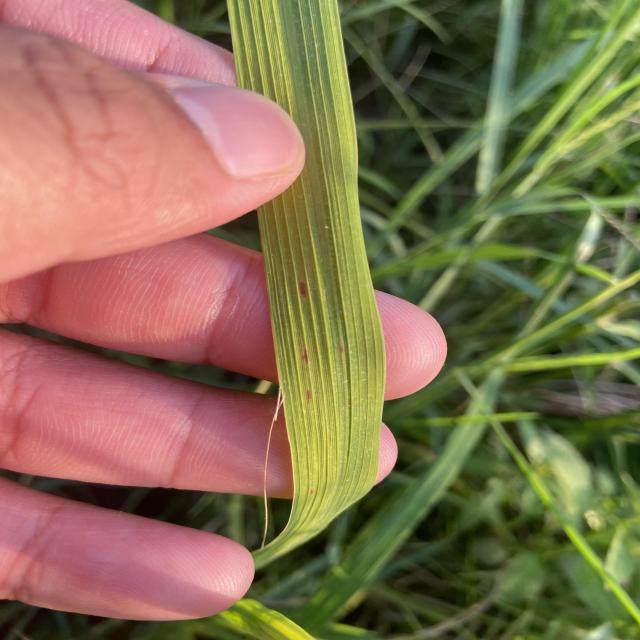Dom nau: (298, 281, 307, 298), (302, 348, 308, 364), (306, 389, 311, 402)
